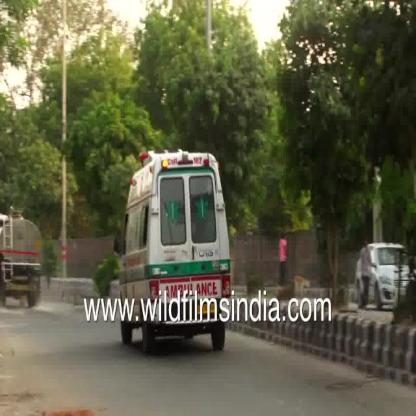priority: (112, 142, 242, 286)
